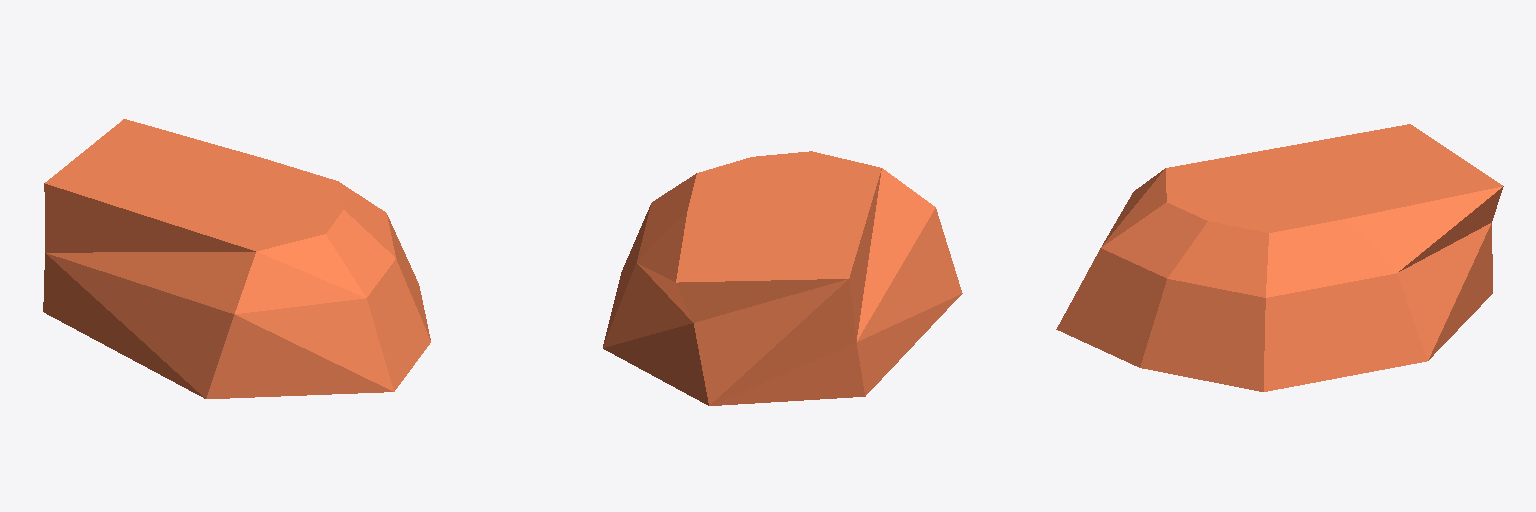
Rendered from rock.obj.
3 renders of one model, left to right at view 1: azimuth 30°, elevation 25°; view 2: azimuth 150°, elevation 25°; view 3: azimuth 270°, elevation 25°, orthographic.
Parts seen in each view (by area): view 1: rock; view 2: rock; view 3: rock.
Part boxes in pixels (bbox=[...]): rock: bbox=[43, 119, 430, 398]; rock: bbox=[603, 151, 962, 405]; rock: bbox=[1056, 124, 1503, 391].
Bounding box in the file's own units: 2.65 × 0.9914 × 3.32.